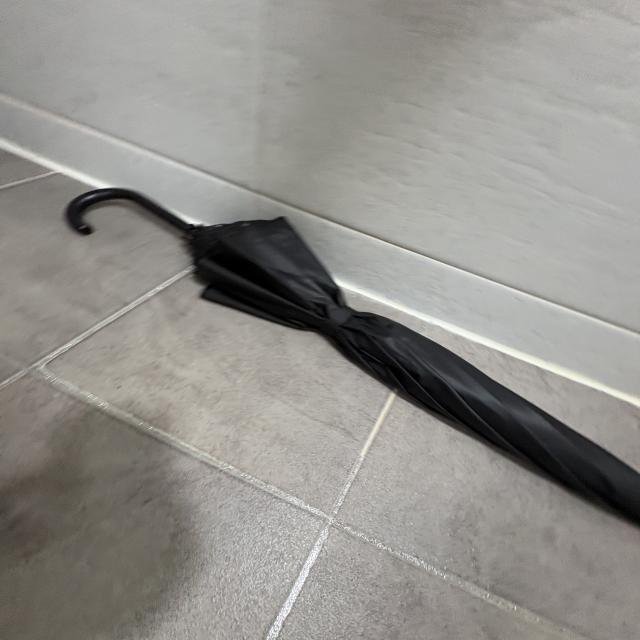umbrella: (65, 184, 640, 528)
